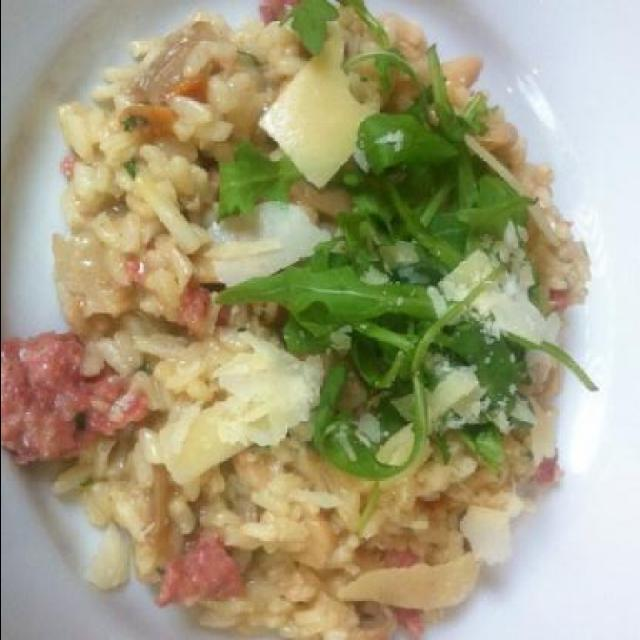Risotto: (29, 26, 528, 612)
